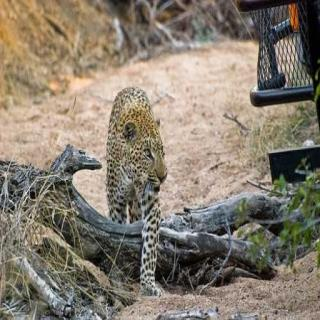Leopard: (67, 78, 220, 320)
